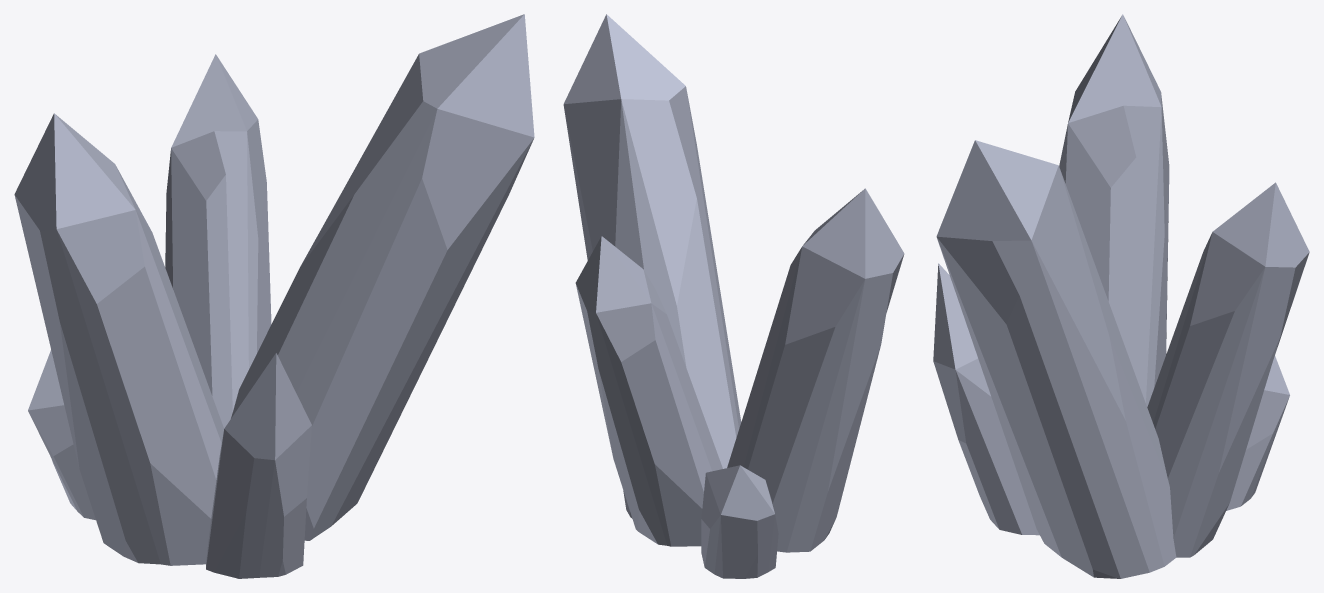
The model's file is crystals 4.fbx.
3 views of the same model, side by side, from view 1: azimuth 30°, elevation 25°; view 2: azimuth 150°, elevation 25°; view 3: azimuth 270°, elevation 25° (orthographic). The views are drawn at different scales.
Parts seen in each view (by area): view 1: crystals 4; view 2: crystals 4; view 3: crystals 4.
Boxes of the visible parts, bbox=[...] form: crystals 4: bbox=[14, 14, 534, 578]; crystals 4: bbox=[563, 14, 904, 578]; crystals 4: bbox=[933, 14, 1309, 578].
Bounding box in the file's own units: 35.29 × 39.14 × 27.38.
